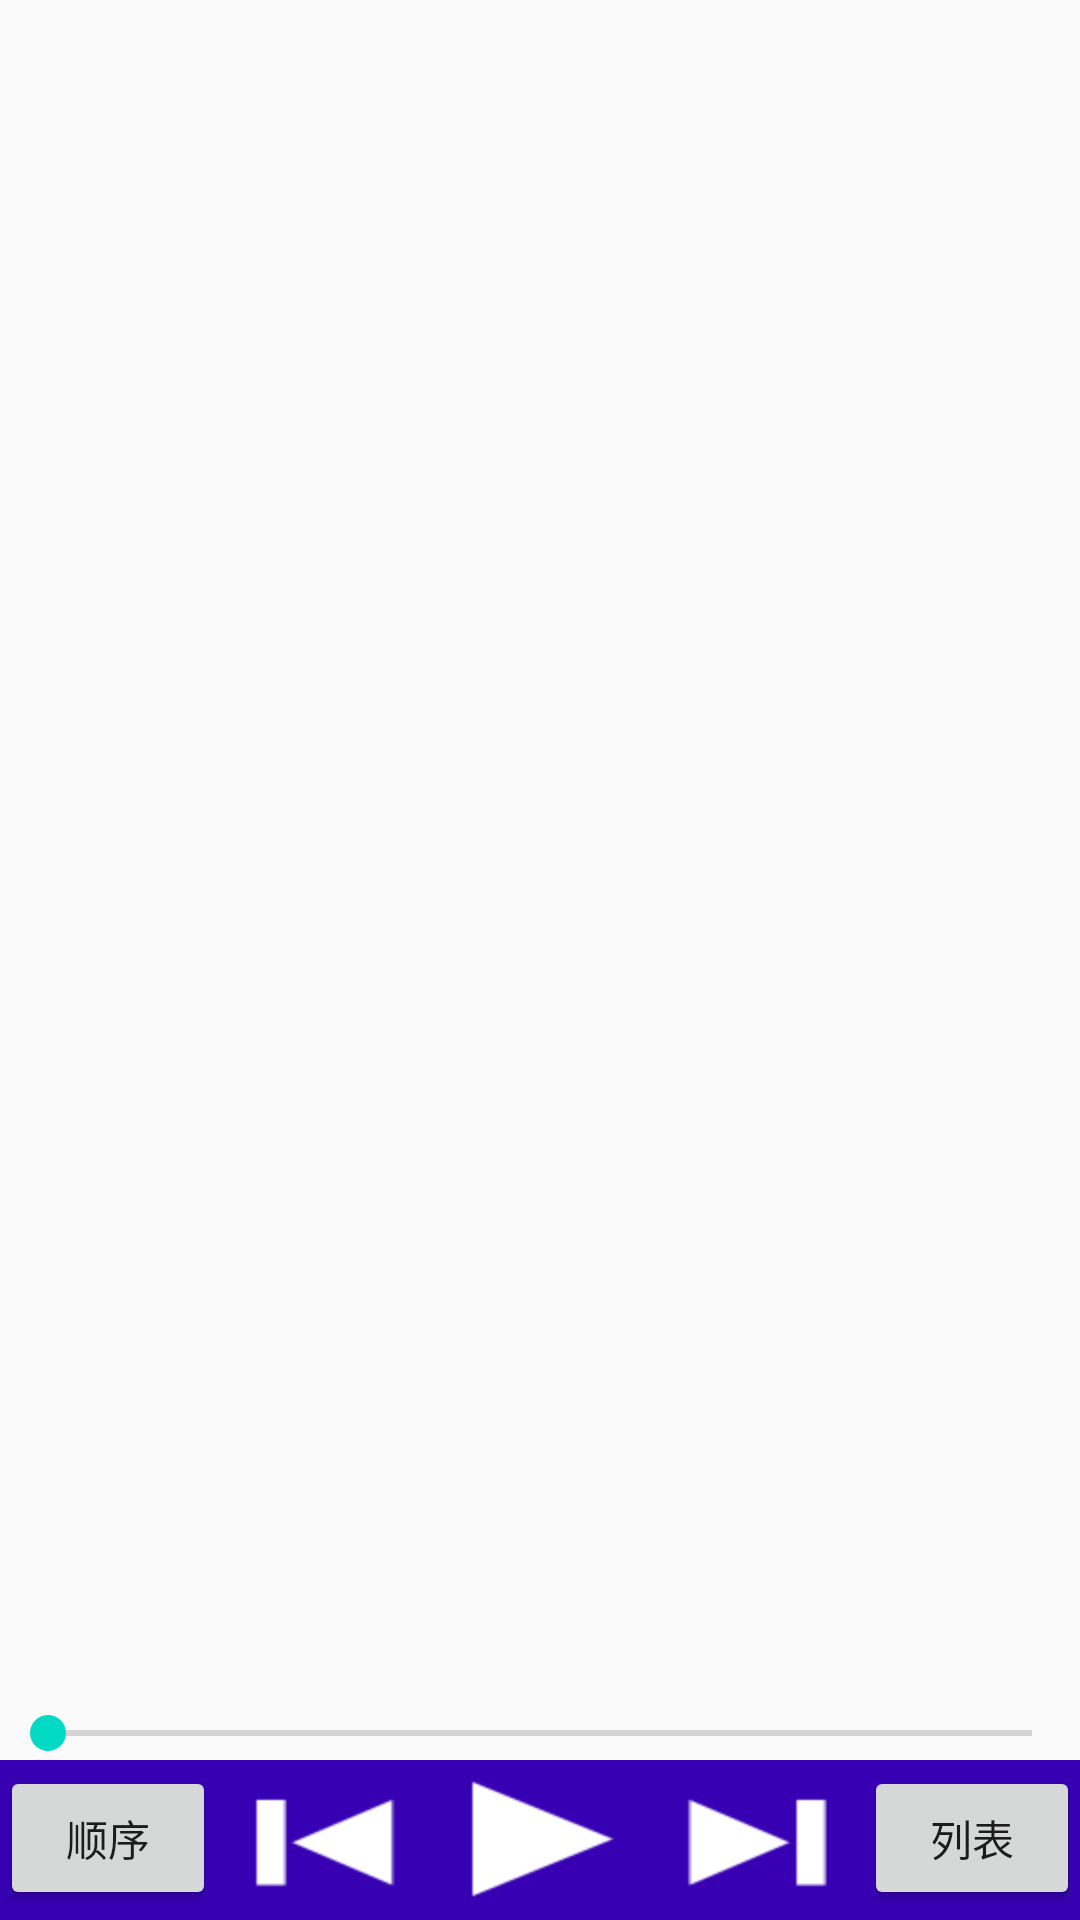

Point at icon controls on the screen. Image size 1080x1920, points as (x,y).
next: (757,1843)
pre: (325,1843)
